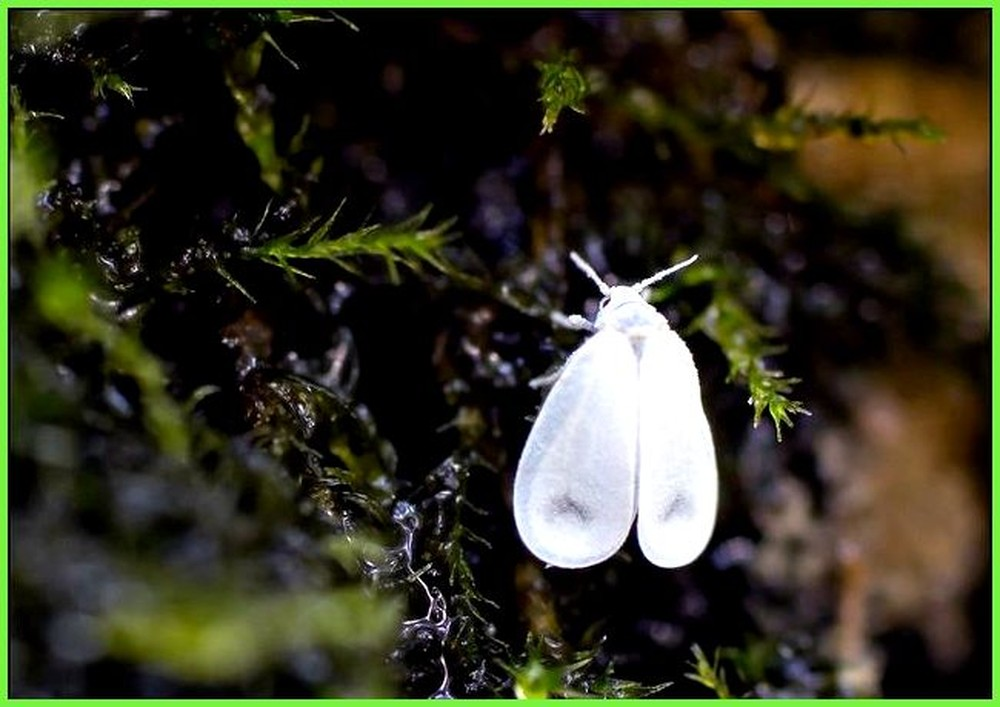Mosca Blanca: (496, 242, 747, 584)
